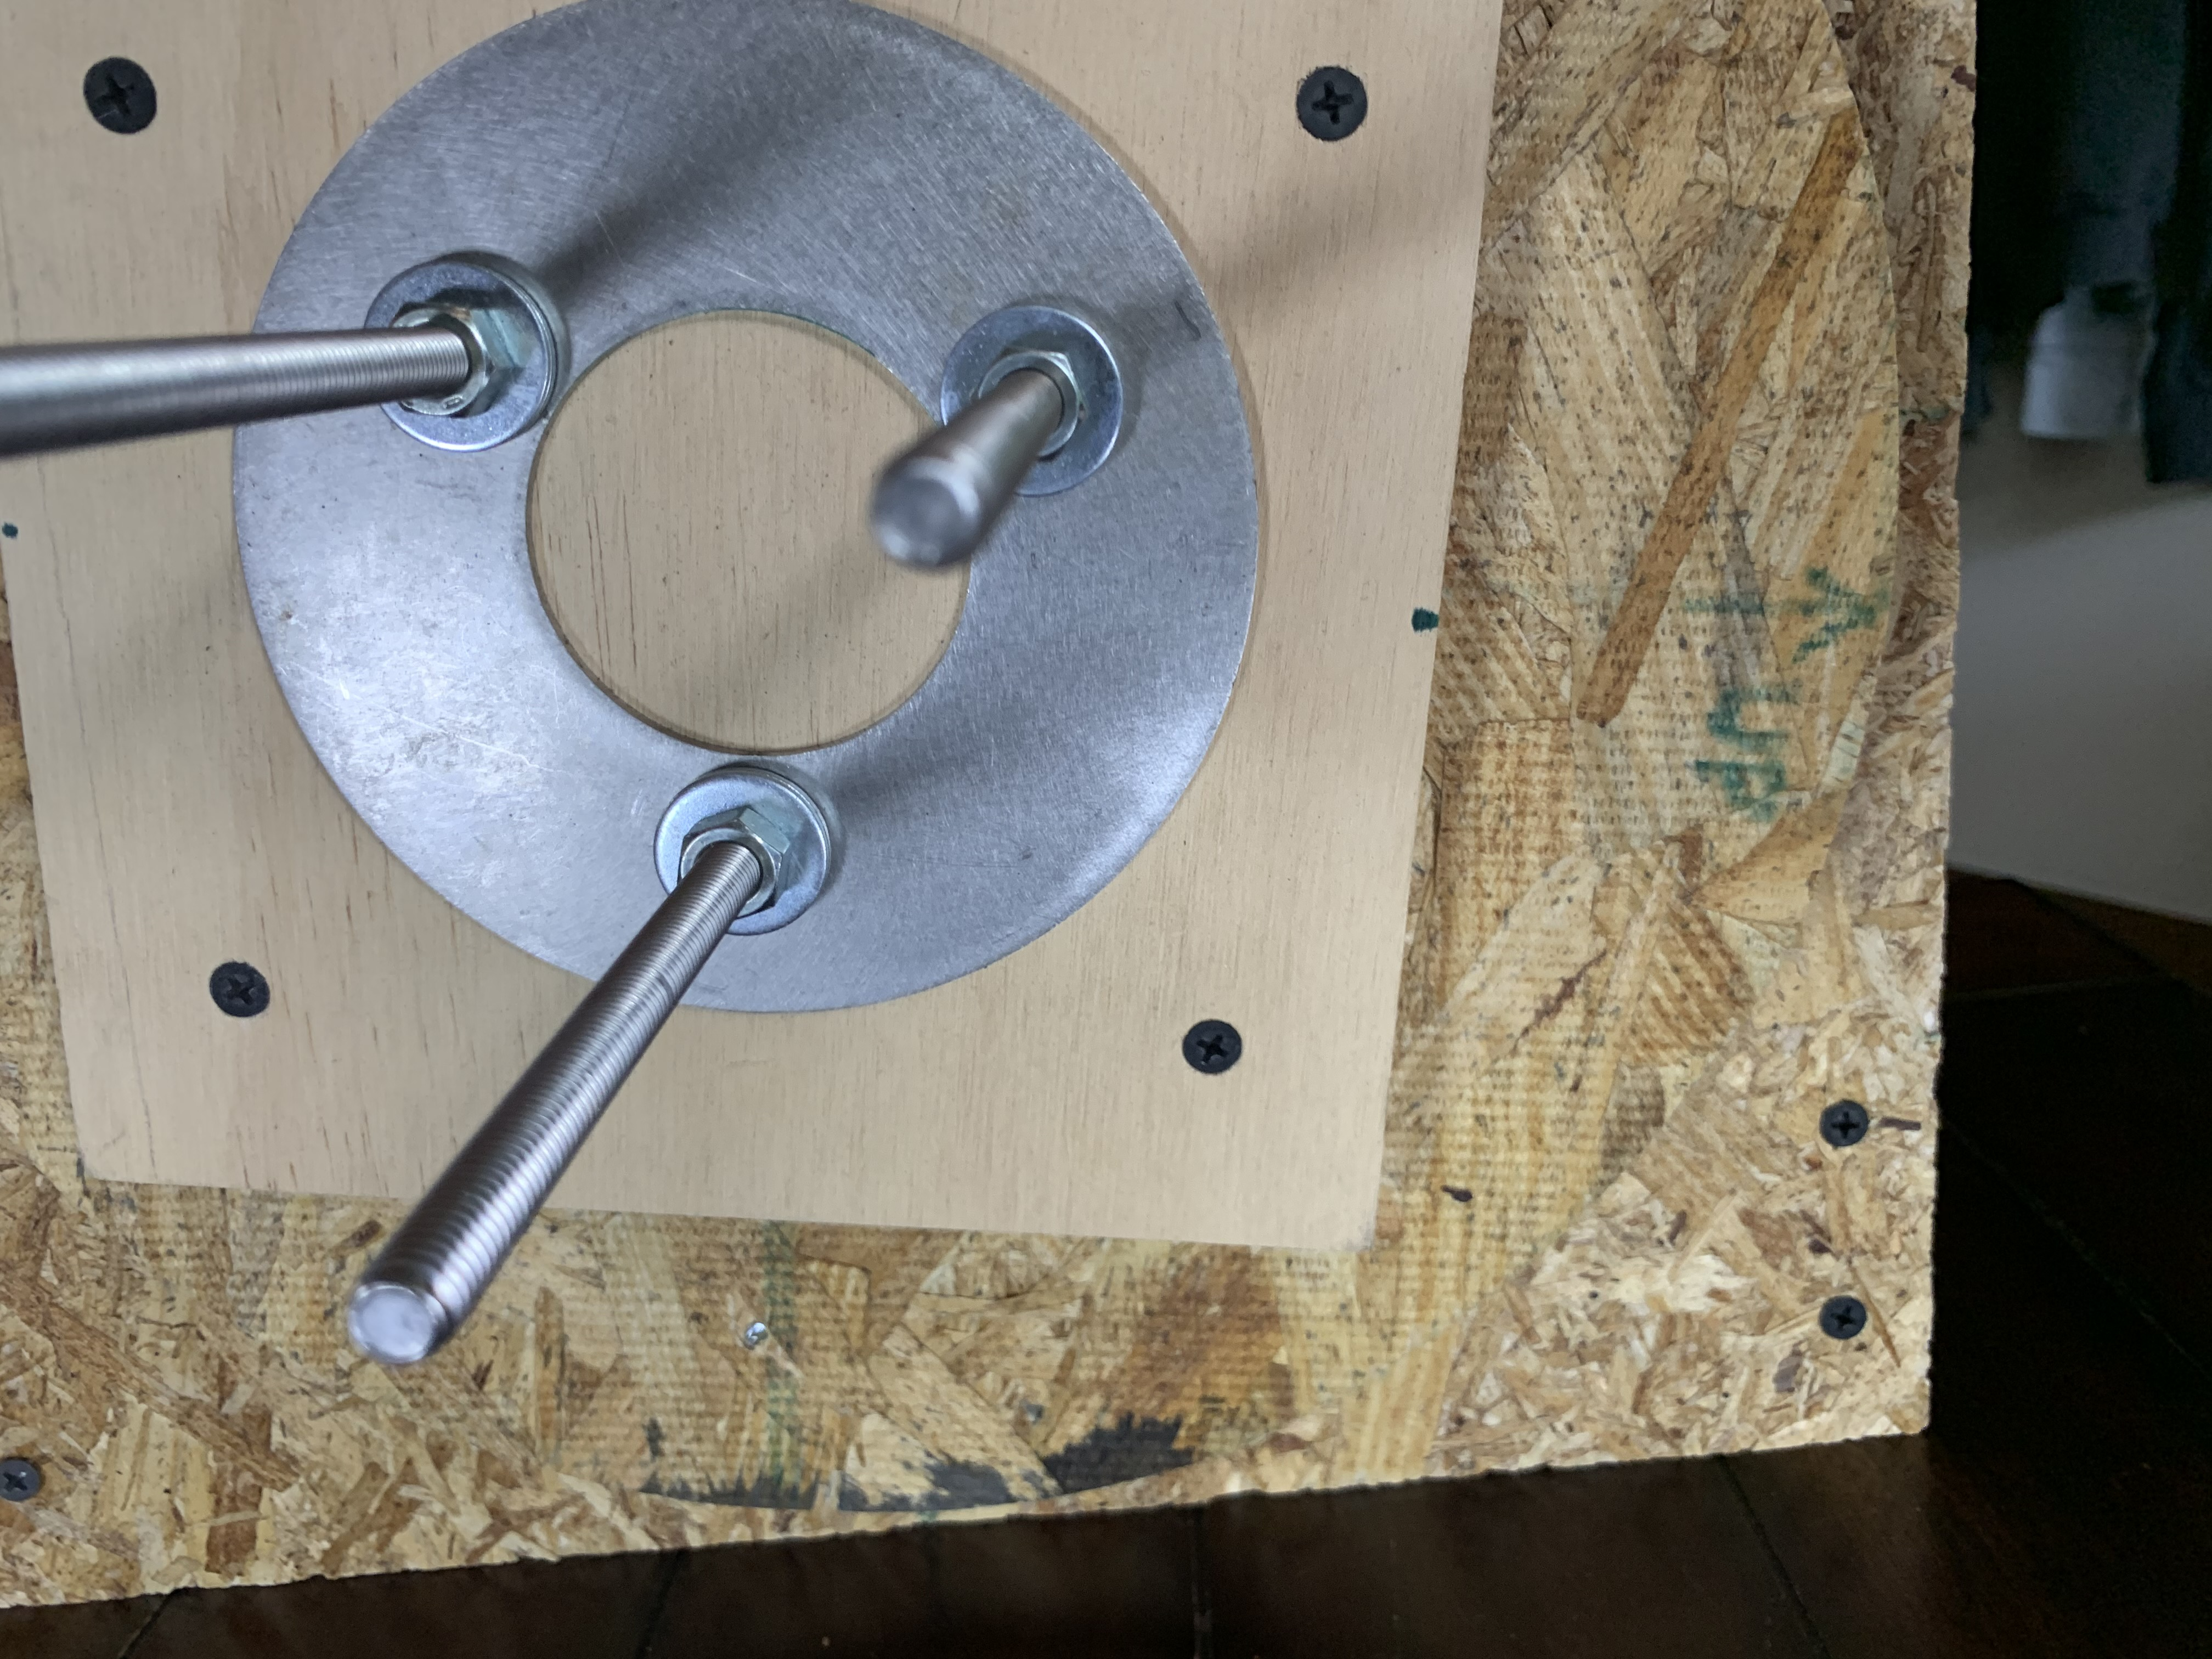bolt: (364, 253, 564, 455), (934, 300, 1129, 500), (651, 763, 841, 938)
